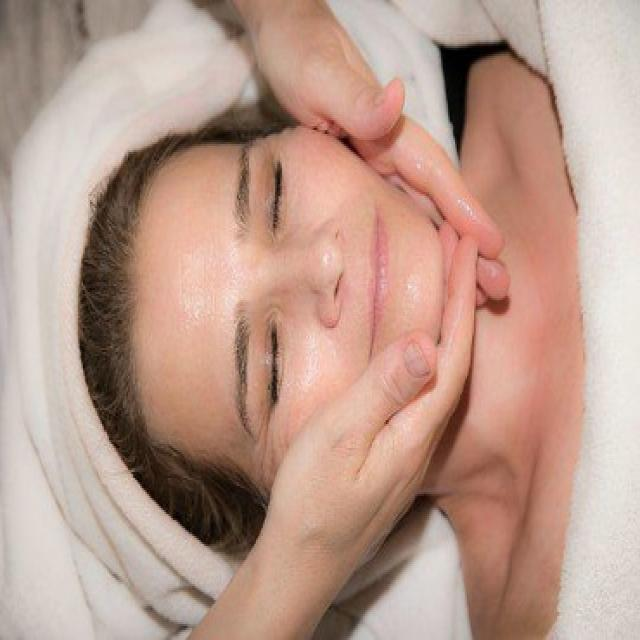adult: (87, 47, 585, 632)
